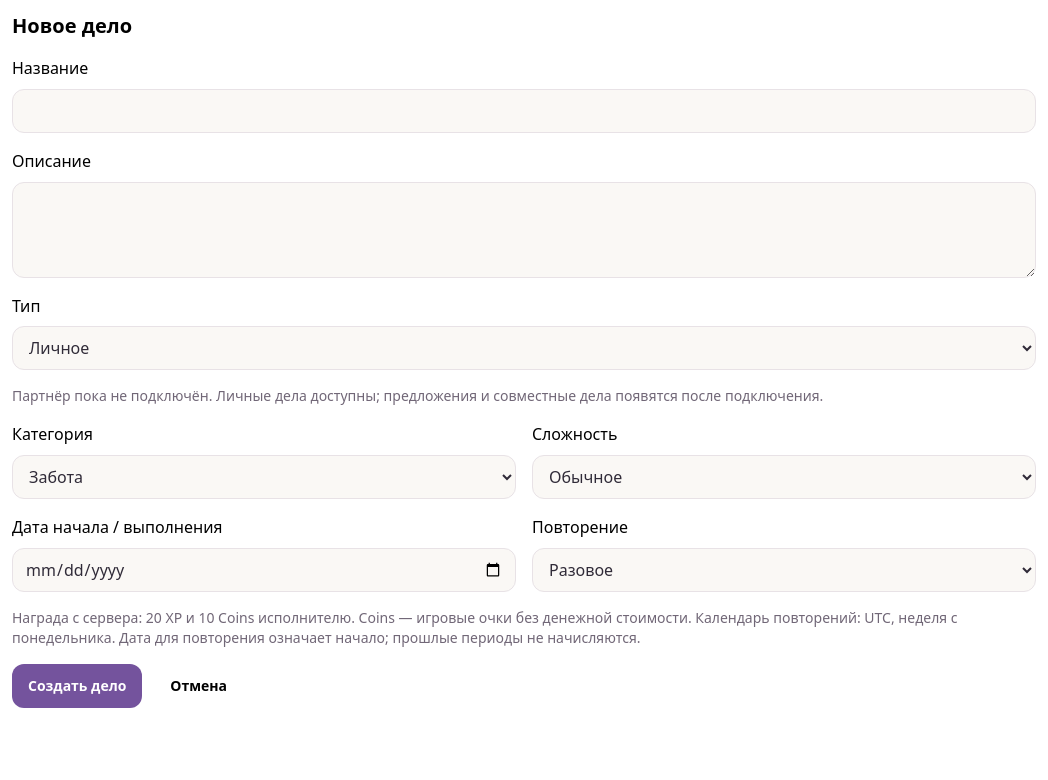
Scenario: task form validates fields and keeps partner actions unavailable without a partner
The width and height of the screenshot is (1048, 780).
Click the button "Создать дело" at (77, 686), box [12,664,142,708]
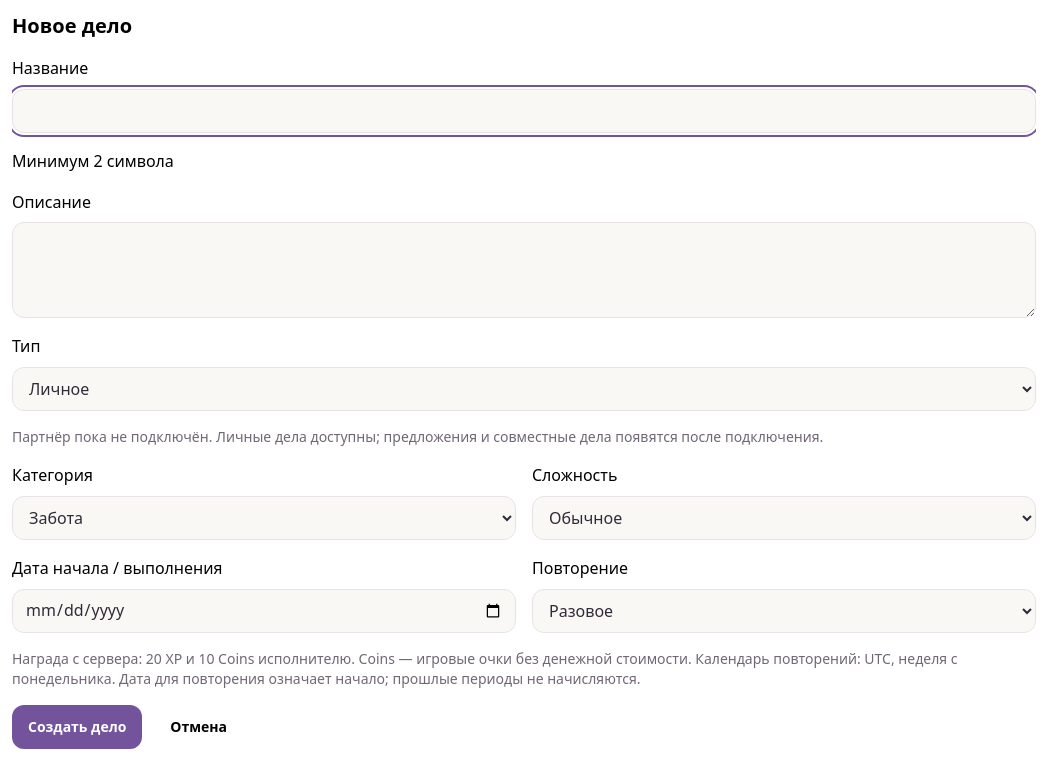
Expected: the message reads "Минимум 2 символа", [12,150,174,172]
